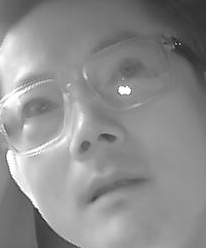glass: (81, 31, 173, 110), (1, 75, 72, 156)
mouth: (76, 168, 156, 216)
